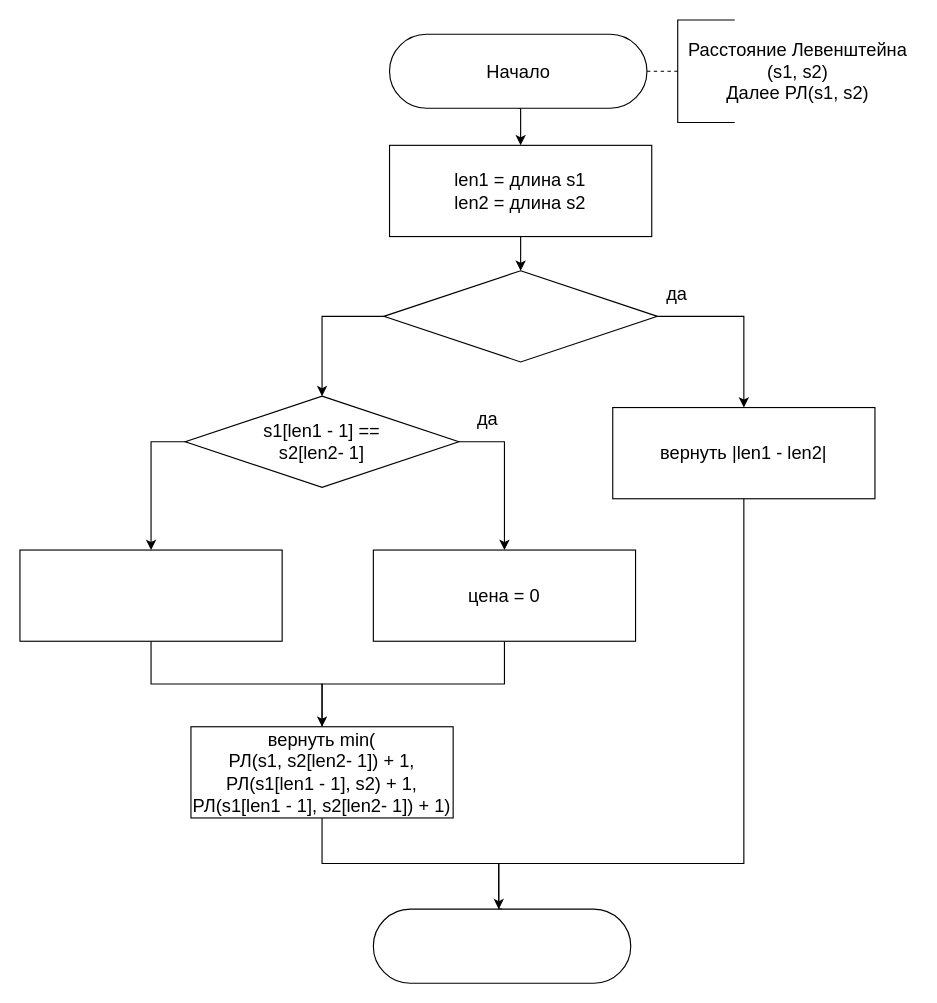
This 937x1003 diagram has some shape labels left out. Here are the shapes that lost their labels. From the top down, the centre of each, then its label:
the point at 520,316: len1 == 0 или len2 == 0
the point at 150,595: цена = 1
the point at 501,945: Конец
